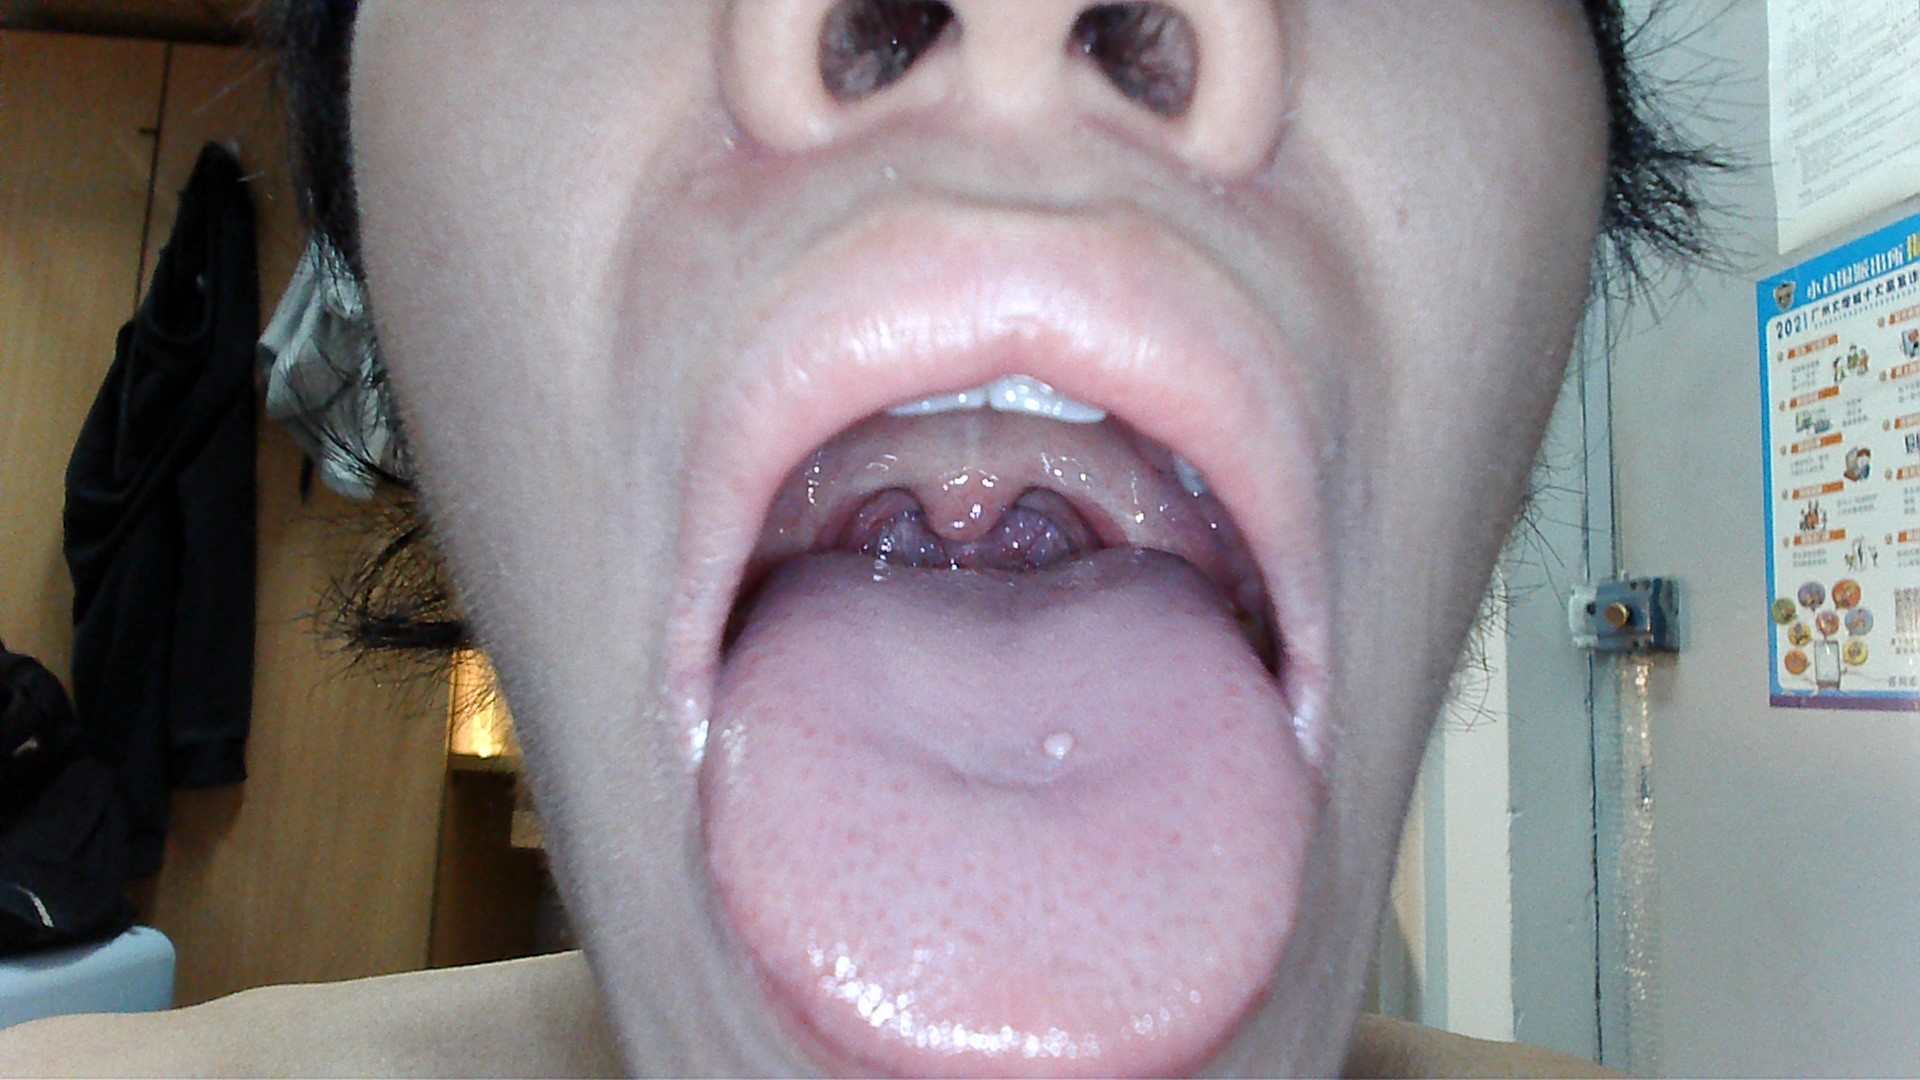throat: (814, 464, 882, 553), (1062, 460, 1126, 549)
